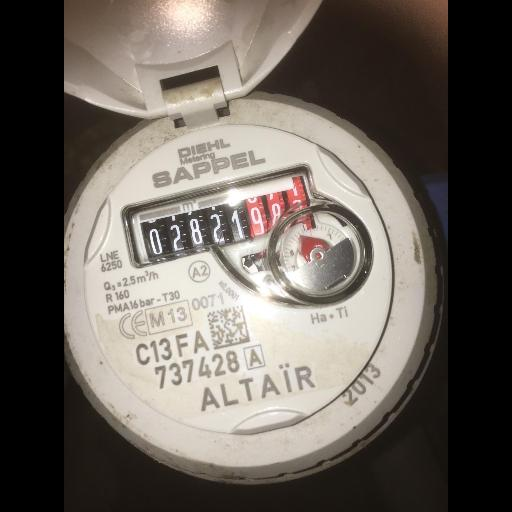0: (140, 218, 172, 260)
1: (225, 200, 251, 243)
2: (163, 213, 191, 255), (280, 176, 309, 216), (205, 204, 230, 246)
7: (264, 192, 289, 233)
8: (184, 209, 210, 250)
9: (246, 196, 271, 239)
border_water_meter_number: (130, 169, 319, 267)
